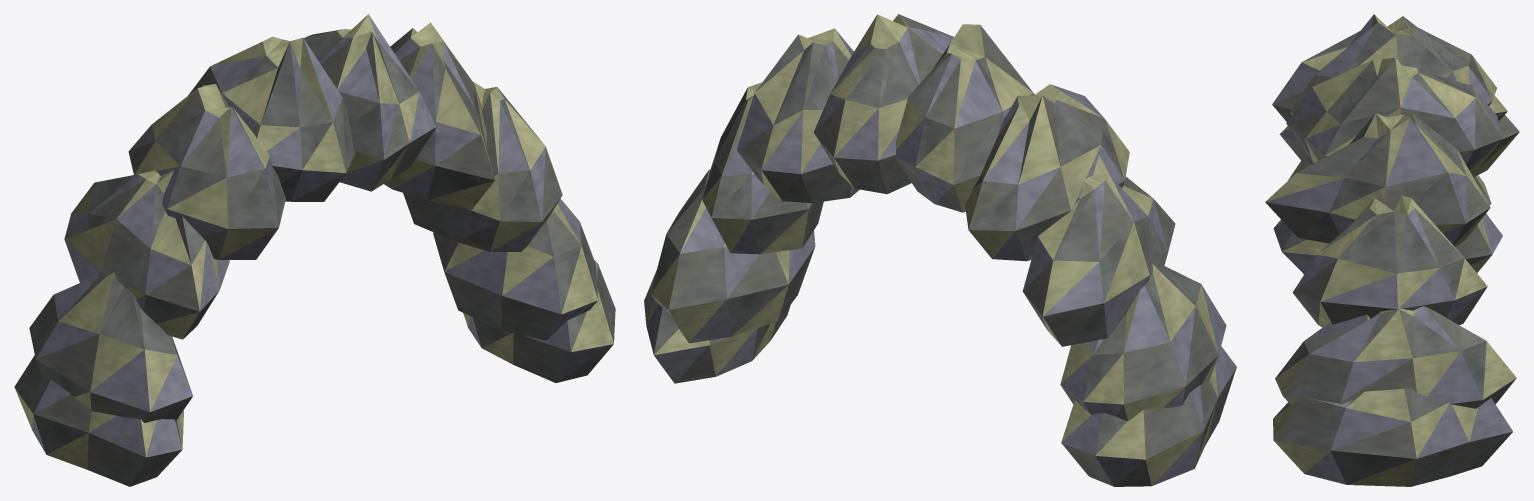
File: rock_arch_natural_01.fbx
3 renders of one model, left to right at view 1: azimuth 30°, elevation 25°; view 2: azimuth 150°, elevation 25°; view 3: azimuth 270°, elevation 25°, orthographic. The views are drawn at different scales.
Visible parts, largest first — view 1: rock_arch_natural_01; view 2: rock_arch_natural_01; view 3: rock_arch_natural_01.
Part boxes in pixels (box(x1,y1,x2,y2)): rock_arch_natural_01: box(14, 14, 615, 486); rock_arch_natural_01: box(644, 14, 1236, 486); rock_arch_natural_01: box(1265, 14, 1519, 486).
Bounding box in the file's own units: 688 × 445 × 300.
Materials: 1 (1 with a texture image).
